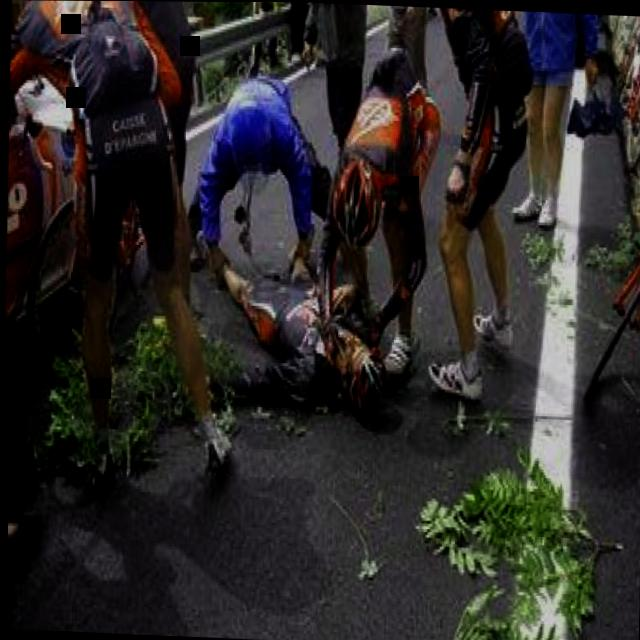Fall-Detected: (190, 215, 409, 434)
